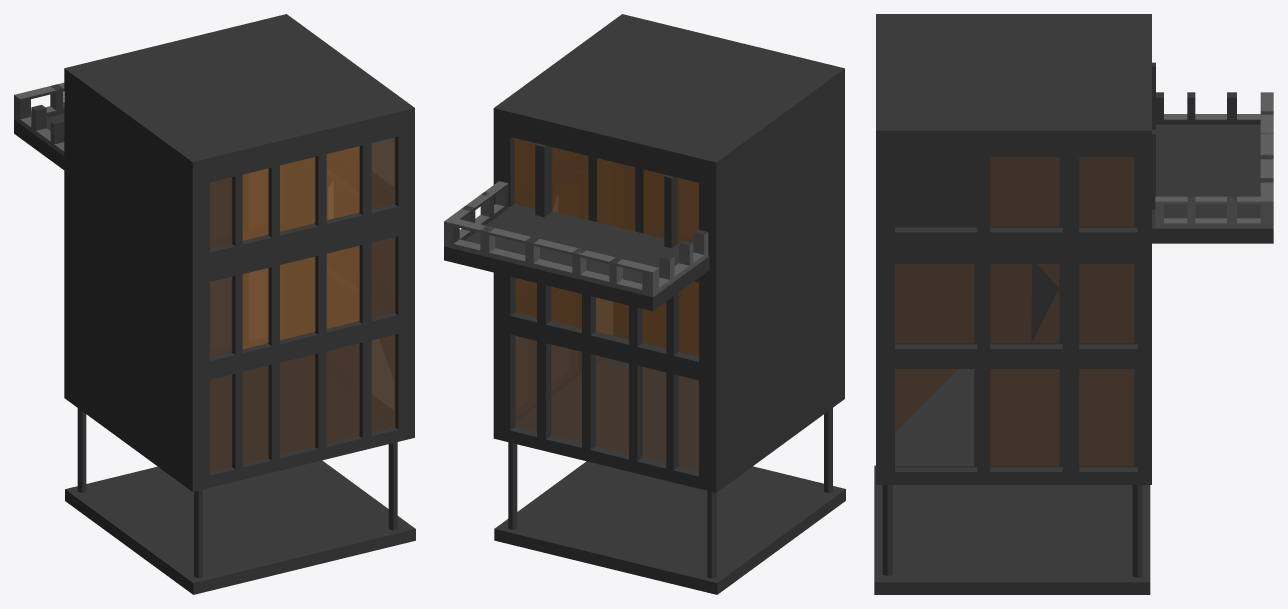
File: building1.fbx
3 views of the same model, side by side, from view 1: azimuth 30°, elevation 25°; view 2: azimuth 150°, elevation 25°; view 3: azimuth 270°, elevation 25° (orthographic). The views are drawn at different scales.
Parts seen in each view (by area): view 1: pasted__main_building, pasted__base, pasted__left_pillar, pasted__right_back_pillar, pasted__back_pillar; view 2: pasted__main_building, pasted__base, pasted__front_pillar1, pasted__right_back_pillar, pasted__back_pillar; view 3: pasted__main_building, pasted__base, pasted__front_pillar1, pasted__left_pillar.
Boxes of the visible parts, left/top/right/bottom form: pasted__main_building: left=14, top=14, right=414, bottom=491; pasted__base: left=65, top=460, right=415, bottom=594; pasted__left_pillar: left=388, top=442, right=397, bottom=530; pasted__right_back_pillar: left=77, top=408, right=86, bottom=492; pasted__back_pillar: left=194, top=489, right=202, bottom=577; pasted__main_building: left=444, top=14, right=844, bottom=492; pasted__base: left=494, top=461, right=845, bottom=594; pasted__front_pillar1: left=508, top=442, right=517, bottom=529; pasted__right_back_pillar: left=707, top=491, right=716, bottom=578; pasted__back_pillar: left=824, top=408, right=832, bottom=492; pasted__main_building: left=876, top=14, right=1273, bottom=484; pasted__base: left=874, top=465, right=1150, bottom=594; pasted__front_pillar1: left=1132, top=485, right=1142, bottom=577; pasted__left_pillar: left=882, top=485, right=892, bottom=575.
Bounding box in the file's own units: 43.69 × 81.11 × 63.27.
